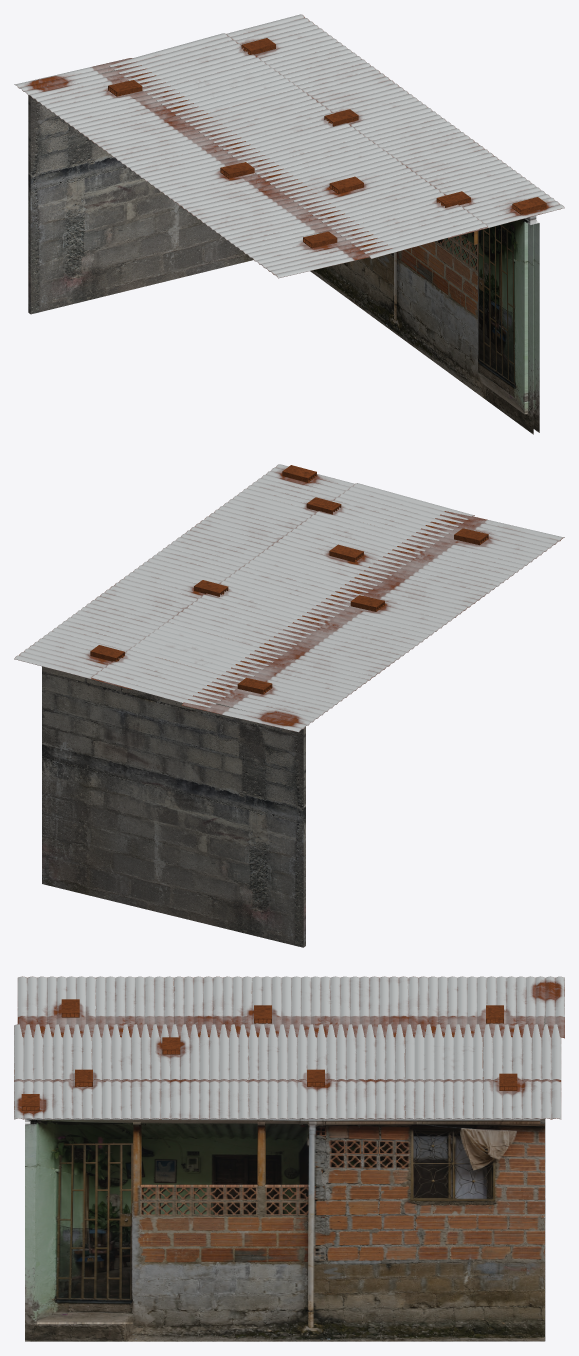
Rendered from casaA_izquierda_04.fbx.
3 views of the same model, one above another, from view 1: azimuth 30°, elevation 25°; view 2: azimuth 150°, elevation 25°; view 3: azimuth 270°, elevation 25° (orthographic). The views are drawn at different scales.
Parts seen in each view (by area): view 1: Techo_1.011, casaA_izquierda_04.001, casaA_izquierda_05B.001; view 2: Techo_1.011, casaA_izquierda_05B.001; view 3: casaA_izquierda_04.001, Techo_1.011.
Part boxes in pixels (<box>): Techo_1.011: <box>14,14,564,278</box>; casaA_izquierda_04.001: <box>310,215,539,434</box>; casaA_izquierda_05B.001: <box>28,68,253,314</box>; Techo_1.011: <box>14,464,564,732</box>; casaA_izquierda_05B.001: <box>42,666,305,947</box>; casaA_izquierda_04.001: <box>25,1118,544,1341</box>; Techo_1.011: <box>14,976,564,1119</box>.
Bounding box in the file's own units: 423 × 326 × 684.
